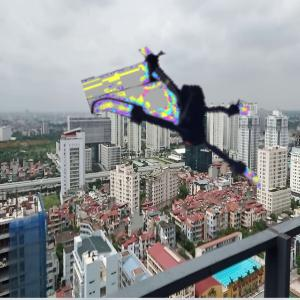drone: (101, 37, 280, 216)
